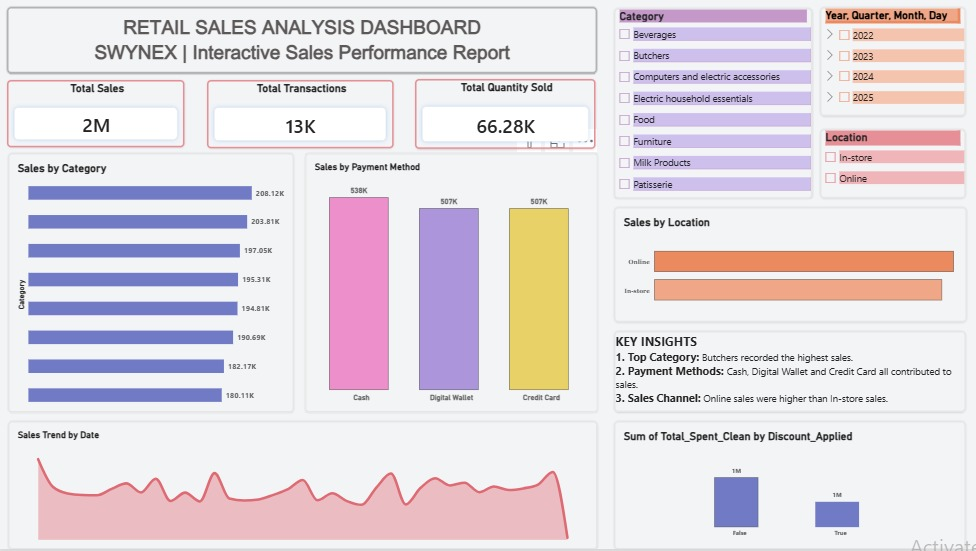

The dashboard page shown, as its layout file describes it:
{"tool":"powerbi","page":{"name":"Page 1","canvas":[1920,1080],"ordinal":0},"visuals":[{"type":"cardVisual","title":"Total Sales","fields":{"Data":["Sum(retail_store_sales.Total_Spent_Clean)"]},"box":[15.7,145.3,347.5,145.4],"z":0,"group":"g1"},{"type":"clusteredBarChart","title":"Sales by Category","fields":{"Category":["retail_store_sales.Category"],"Y":["Sum(retail_store_sales.Total_Spent_Clean)"]},"box":[18.2,302.1,561,508.8],"z":0},{"type":"cardVisual","title":"Total Transactions","fields":{"Data":["Count(retail_store_sales.Transaction_id)"]},"box":[409.6,145.9,365.9,145.9],"z":1000,"group":"g1"},{"type":"clusteredColumnChart","title":"Sales by Payment Method","fields":{"Category":["retail_store_sales.Payment_Method"],"Y":["Sum(retail_store_sales.Total_Spent_Clean)"]},"box":[599.6,302.1,574.6,508.8],"z":1000},{"type":"cardVisual","title":"Total Quantity Sold","fields":{"Data":["Sum(retail_store_sales.Quantity_Clean)"]},"box":[817.6,147,354.3,147.6],"z":2000,"group":"g1"},{"type":"clusteredBarChart","title":"Sales by Location","fields":{"Category":["retail_store_sales.Location"],"Y":["Sum(retail_store_sales.Total_Spent_Clean)"]},"box":[1205.5,408.2,691.6,226.3],"z":2000},{"type":"lineChart","title":"Sales Trend by Date","fields":{"Category":["retail_store_sales.Transaction_Date.Variation.Date Hierarchy.Year","retail_store_sales.Transaction_Date.Variation.Date Hierarchy.Quarter","retail_store_sales.Transaction_Date.Variation.Date Hierarchy.Month","retail_store_sales.Transaction_Date.Variation.Date Hierarchy.Day"],"Y":["Sum(retail_store_sales.Total_Spent_Clean)"]},"box":[18.2,826.8,1156.1,252.1],"z":3000},{"type":"slicer","fields":{"Values":["retail_store_sales.Category"]},"box":[1205.5,16.9,389.1,374.3],"z":4000},{"type":"slicer","fields":{"Values":["retail_store_sales.Location"]},"box":[1610.4,254.4,286.2,136.3],"z":5000},{"type":"slicer","fields":{"Values":["retail_store_sales.Transaction_Date.Variation.Date Hierarchy.Year","retail_store_sales.Transaction_Date.Variation.Date Hierarchy.Quarter","retail_store_sales.Transaction_Date.Variation.Date Hierarchy.Month","retail_store_sales.Transaction_Date.Variation.Date Hierarchy.Day"]},"box":[1610.4,15.9,286.2,213.5],"z":6000},{"type":"textbox","title":"RETAIL SALES ANALYSIS DASHBOARD","box":[14.8,21.1,1159,110],"z":7000},{"type":"group","id":"g1","title":"Group 1","box":[15.7,145.3,1156.2,149.3],"z":8000},{"type":"textbox","box":[1206.1,651.9,690.5,159],"z":9000},{"type":"clusteredColumnChart","fields":{"Category":["retail_store_sales.Discount_Applied"],"Y":["Sum(retail_store_sales.Total_Spent_Clean)"]},"box":[1206.1,826.8,690.5,252.1],"z":10000}]}

Visuals, with their boxes in screenshot pixels (x1, y1, x2, y2), scaled from the page's 1920x1080 canvas onto the 976x551 screenshot:
"Total Sales" cardVisual: bbox=(8, 74, 185, 148)
"Sales by Category" clusteredBarChart: bbox=(9, 154, 294, 414)
"Total Transactions" cardVisual: bbox=(208, 74, 394, 149)
"Sales by Payment Method" clusteredColumnChart: bbox=(305, 154, 597, 414)
"Total Quantity Sold" cardVisual: bbox=(416, 75, 596, 150)
"Sales by Location" clusteredBarChart: bbox=(613, 208, 964, 324)
"Sales Trend by Date" lineChart: bbox=(9, 422, 597, 550)
slicer - retail_store_sales.Category: bbox=(613, 9, 811, 200)
slicer - retail_store_sales.Location: bbox=(819, 130, 964, 199)
slicer - retail_store_sales.Transaction_Date.Variation.Date Hierarchy.Year x retail_store_sales.Transaction_Date.Variation.Date Hierarchy.Quarter: bbox=(819, 8, 964, 117)
"RETAIL SALES ANALYSIS DASHBOARD" textbox: bbox=(8, 11, 597, 67)
"Group 1" group: bbox=(8, 74, 596, 150)
textbox: bbox=(613, 333, 964, 414)
clusteredColumnChart - retail_store_sales.Discount_Applied x Sum(retail_store_sales.Total_Spent_Clean): bbox=(613, 422, 964, 550)
